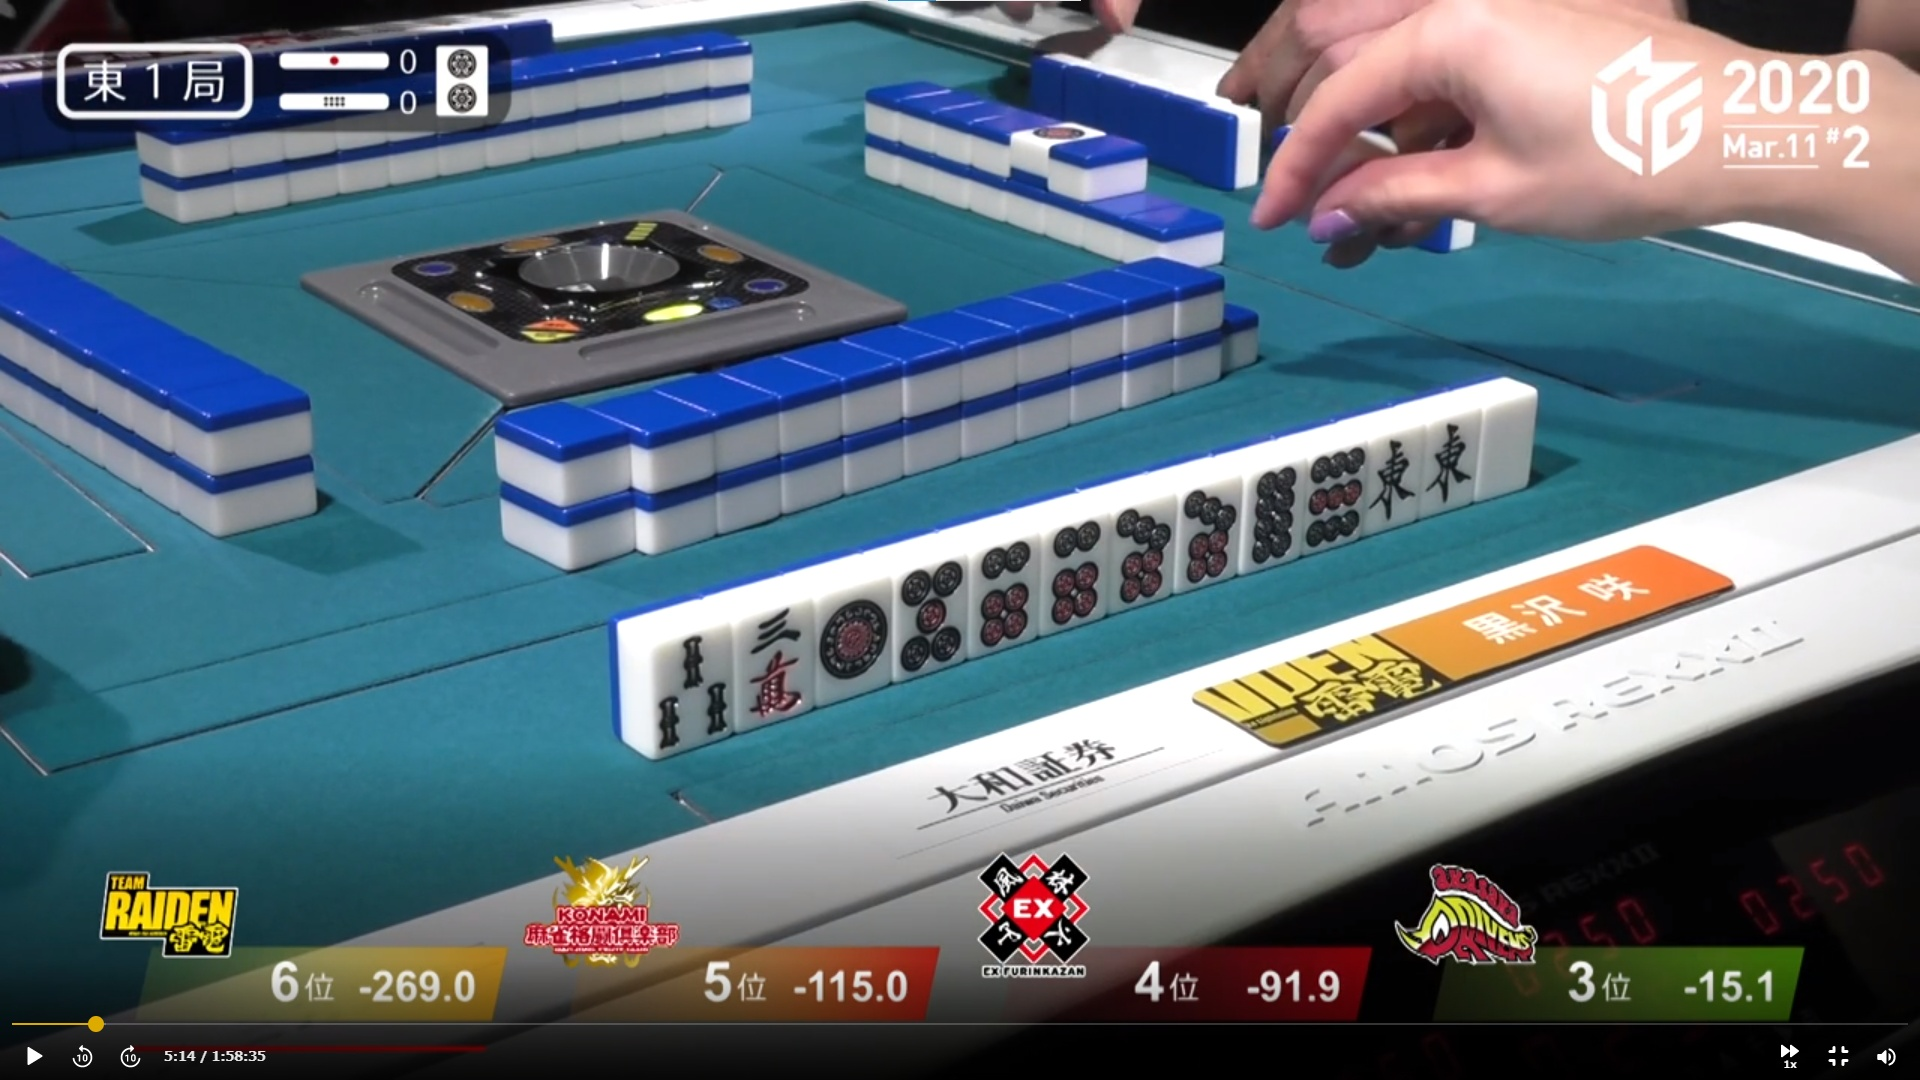1p: (812, 559, 887, 702)
3m: (733, 579, 799, 725)
3s: (615, 597, 735, 756)
5p: (895, 533, 965, 673)
6p: (965, 512, 1033, 653), (1034, 488, 1096, 636)
7p: (1104, 473, 1168, 603), (1178, 455, 1240, 589)
8p: (1241, 438, 1298, 567)
9p: (1308, 423, 1364, 549)
haku: (1484, 382, 1532, 492)
hand_ton_1: (49, 33, 258, 131)
round_0: (265, 84, 422, 117)
team_raiden: (1180, 620, 1447, 742)
ton: (1416, 394, 1472, 512), (1364, 409, 1414, 527)
